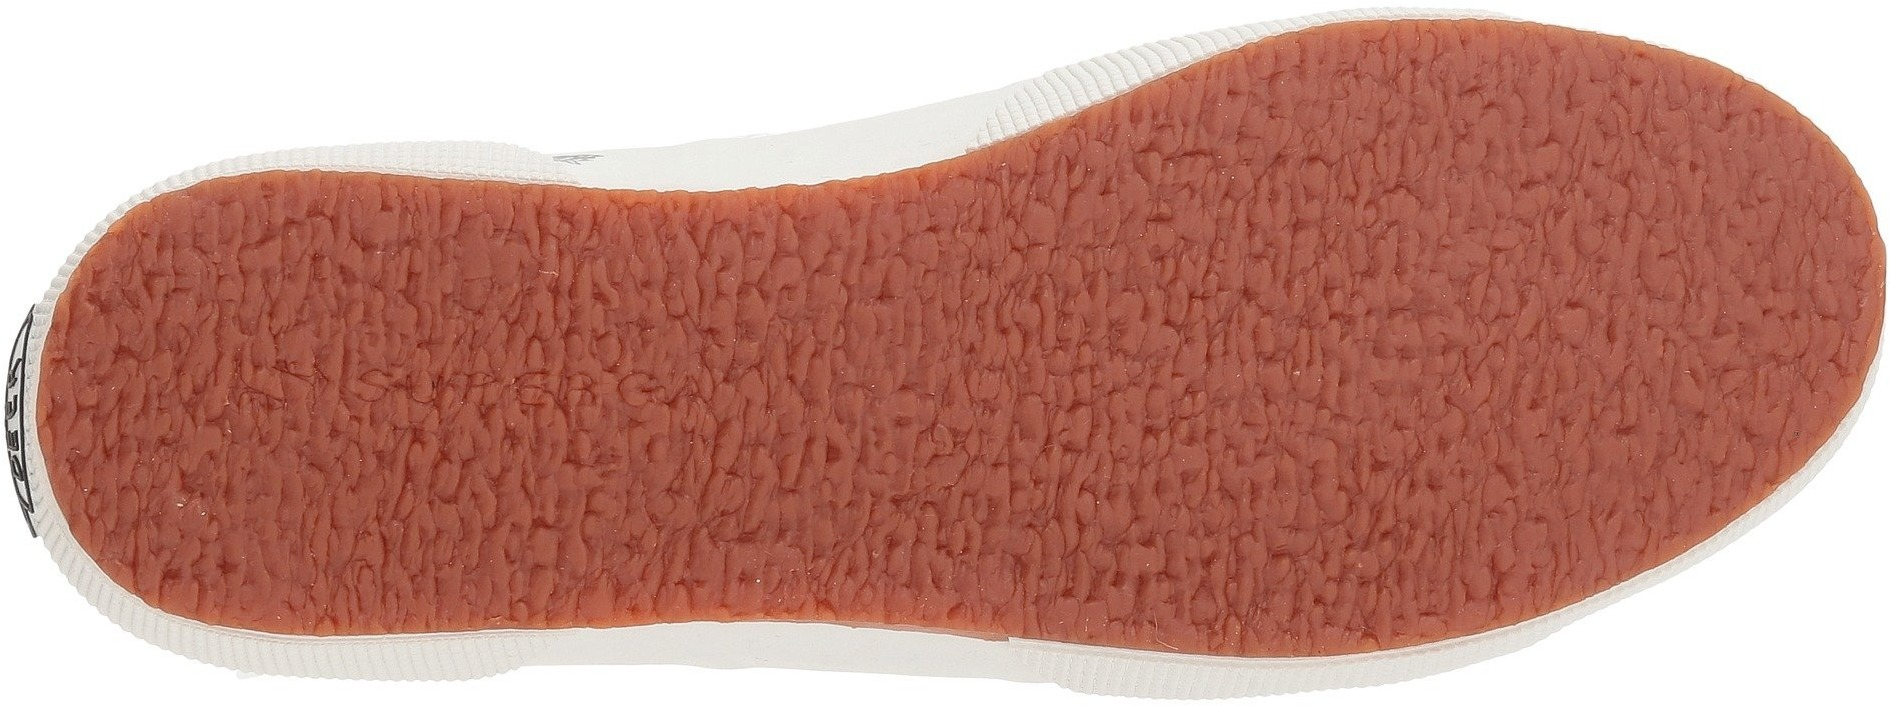other: (36, 14, 1879, 647)
